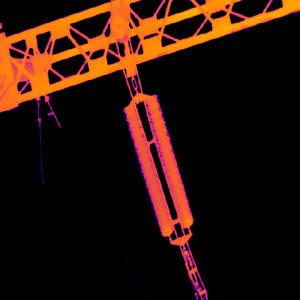insulator: (122, 93, 194, 236)
